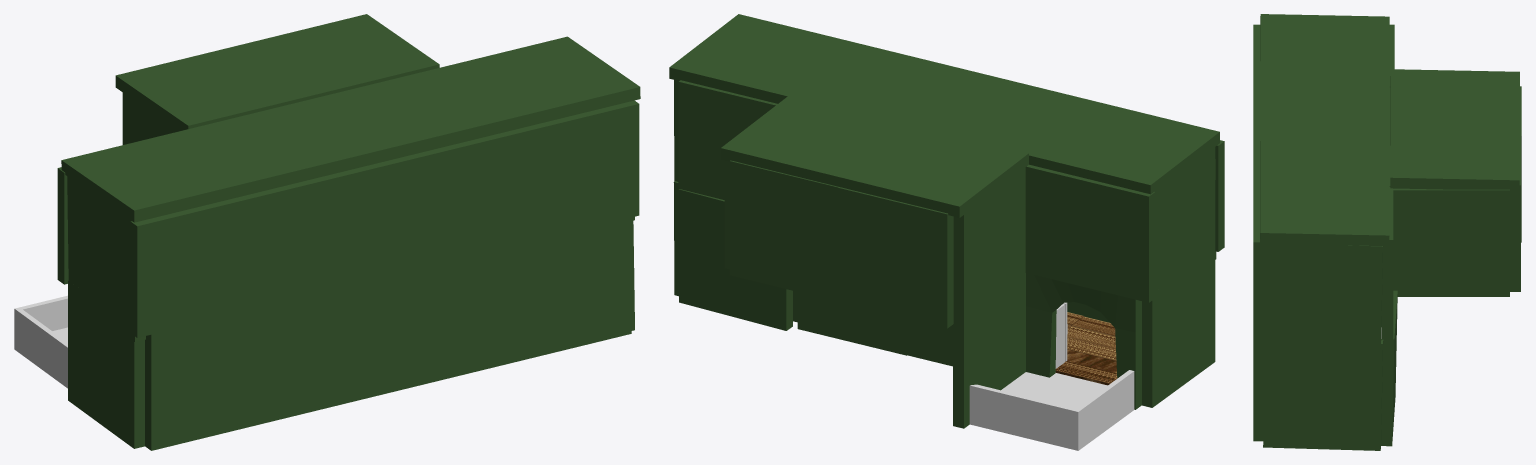
The model's file is dorm.fbx.
3 views of the same model, side by side, from view 1: azimuth 30°, elevation 25°; view 2: azimuth 150°, elevation 25°; view 3: azimuth 270°, elevation 25° (orthographic). The views are drawn at different scales.
Visible parts, largest first — view 1: pasted__polySurface13 (×2), pasted__pasted__pasted__pasted__polySurface13, pasted__pasted__pasted__pasted__pasted__polySurface13, pasted__pasted__pasted__pasted__pasted__pasted__polySurface1, pasted__pasted__pasted__polySurface13, polySurface11, pasted__pasted__polySurface10, Cube.016, polySurface5, pasted__pasted__polySurface13; view 2: pasted__pasted__pasted__pasted__pasted__polySurface13, pasted__pasted__pasted__pasted__pasted__pasted__polySurface1, pasted__pasted__polySurface13, polySurface6, polySurface7, Cube.016, polySurface9, polySurface5, polySurface11, pasted__pasted__polySurface10, polySurface12, pasted__pasted__pasted__polySurface6 (+8 smaller); view 3: pasted__pasted__pasted__pasted__pasted__polySurface13, pasted__pasted__pasted__pasted__pasted__pasted__polySurface1, pasted__polySurface10, polySurface8, polySurface10, pasted__pasted__pasted__pasted__polySurface13, polySurface9, pasted__pasted__pasted__polySurface6, polySurface7, pasted__polySurface13, pasted__pasted__pasted__polySurface13, pasted__pasted__polySurface13.
Part boxes in pixels (bbox=[...]): pasted__polySurface13 (×2): bbox=[145, 217, 631, 450]; pasted__pasted__pasted__pasted__polySurface13: bbox=[276, 100, 639, 302]; pasted__pasted__pasted__pasted__pasted__polySurface13: bbox=[61, 36, 640, 222]; pasted__pasted__pasted__pasted__pasted__pasted__polySurface1: bbox=[115, 14, 439, 131]; pasted__pasted__pasted__polySurface13: bbox=[130, 188, 279, 337]; polySurface11: bbox=[68, 280, 144, 448]; pasted__pasted__polySurface10: bbox=[67, 176, 145, 341]; Cube.016: bbox=[14, 295, 67, 388]; polySurface5: bbox=[122, 92, 178, 144]; pasted__pasted__polySurface13: bbox=[57, 167, 68, 284]; pasted__pasted__pasted__pasted__pasted__polySurface13: bbox=[669, 14, 1219, 194]; pasted__pasted__pasted__pasted__pasted__pasted__polySurface1: bbox=[721, 94, 1028, 217]; pasted__pasted__polySurface13: bbox=[1025, 164, 1155, 302]; polySurface6: bbox=[838, 187, 953, 328]; polySurface7: bbox=[729, 160, 838, 301]; Cube.016: bbox=[969, 370, 1134, 450]; polySurface9: bbox=[678, 189, 792, 330]; polySurface5: bbox=[953, 167, 1025, 326]; polySurface11: bbox=[1142, 260, 1215, 407]; pasted__pasted__polySurface10: bbox=[1155, 147, 1216, 291]; polySurface12: bbox=[1026, 273, 1141, 409]; pasted__pasted__pasted__polySurface6: bbox=[678, 80, 777, 199]; pasted__pasted__pasted__pasted__pasted__polySurface13: bbox=[1260, 14, 1389, 246]; pasted__pasted__pasted__pasted__pasted__pasted__polySurface1: bbox=[1390, 69, 1519, 190]; pasted__polySurface10: bbox=[1263, 243, 1383, 353]; polySurface8: bbox=[1389, 187, 1509, 296]; polySurface10: bbox=[1263, 339, 1383, 450]; pasted__pasted__pasted__pasted__polySurface13: bbox=[1253, 86, 1265, 341]; polySurface9: bbox=[1381, 290, 1397, 446]; pasted__pasted__pasted__polySurface6: bbox=[1381, 190, 1393, 346]; polySurface7: bbox=[1510, 136, 1520, 291]; pasted__polySurface13: bbox=[1253, 341, 1264, 441]; pasted__pasted__pasted__polySurface13: bbox=[1253, 24, 1260, 86]; pasted__pasted__polySurface13: bbox=[1389, 24, 1394, 86].
Size of the model in its own units: 8834 by 4108 by 4558.
